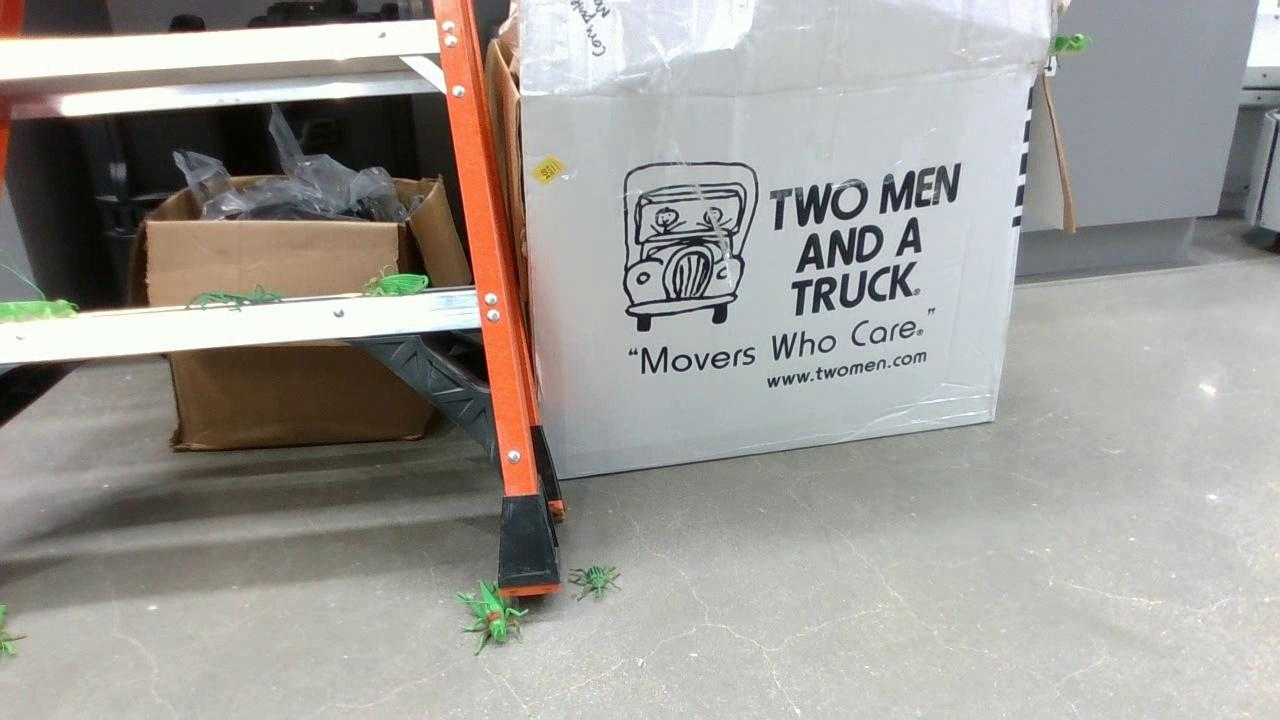grasshopper: (459, 579, 531, 650), (1, 295, 83, 323), (358, 270, 428, 300), (1, 604, 26, 663)
